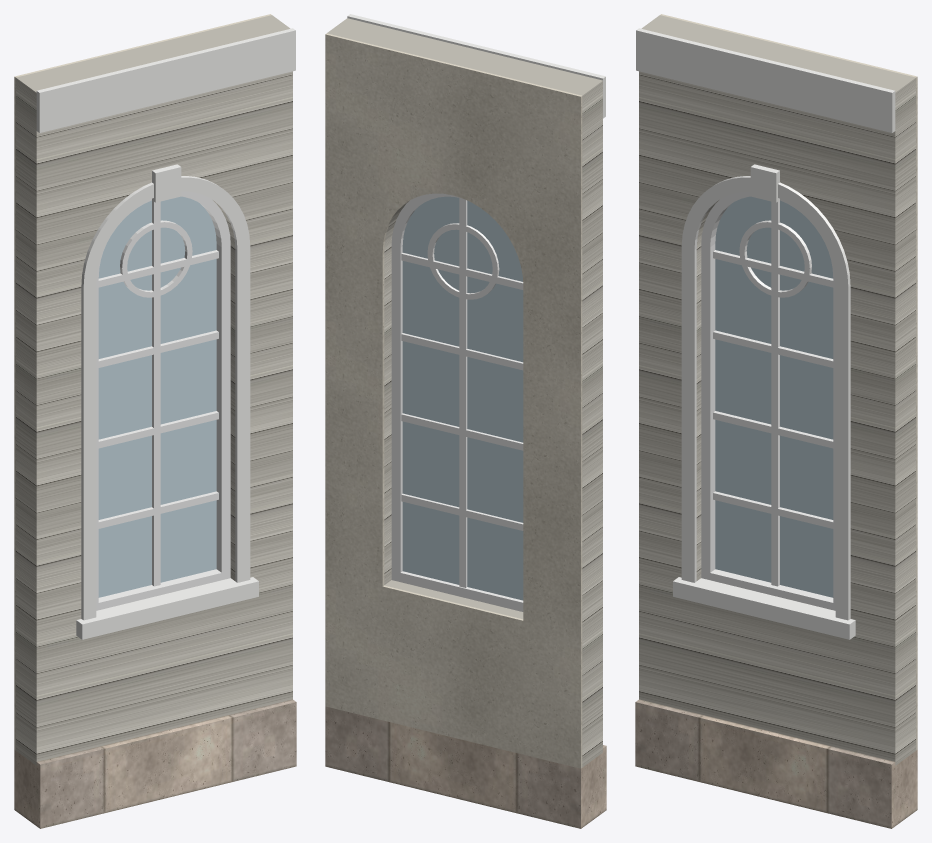
File: nave_wall_window.glb
3 views of the same model, side by side, from view 1: azimuth 30°, elevation 25°; view 2: azimuth 150°, elevation 25°; view 3: azimuth 330°, elevation 25° (orthographic).
Parts seen in each view (by area): view 1: nave_wall_window_siding, nave_wall_window_glass, nave_wall_window_trim, nave_wall_window_stone, nave_wall_window_frame, nave_wall_window_plaster; view 2: nave_wall_window_plaster, nave_wall_window_glass, nave_wall_window_siding, nave_wall_window_stone, nave_wall_window_frame, nave_wall_window_trim; view 3: nave_wall_window_siding, nave_wall_window_glass, nave_wall_window_trim, nave_wall_window_stone, nave_wall_window_frame, nave_wall_window_plaster.
Part boxes in pixels (x1,y1,x2,y2): nave_wall_window_siding: [16, 15, 292, 765]; nave_wall_window_glass: [98, 196, 216, 597]; nave_wall_window_trim: [36, 28, 295, 639]; nave_wall_window_stone: [14, 699, 296, 828]; nave_wall_window_frame: [96, 191, 230, 610]; nave_wall_window_plaster: [14, 14, 271, 750]; nave_wall_window_plaster: [325, 33, 582, 768]; nave_wall_window_glass: [402, 196, 523, 600]; nave_wall_window_siding: [327, 18, 602, 767]; nave_wall_window_stone: [325, 706, 606, 828]; nave_wall_window_frame: [391, 193, 523, 611]; nave_wall_window_trim: [347, 14, 605, 118]; nave_wall_window_siding: [639, 15, 915, 765]; nave_wall_window_glass: [715, 196, 833, 597]; nave_wall_window_trim: [636, 28, 895, 639]; nave_wall_window_stone: [635, 699, 917, 828]; nave_wall_window_frame: [701, 191, 835, 610]; nave_wall_window_plaster: [660, 14, 917, 750].
Size of the model in its own units: 2 by 5.49 by 0.38.
Materials: 6 (3 with a texture image).
